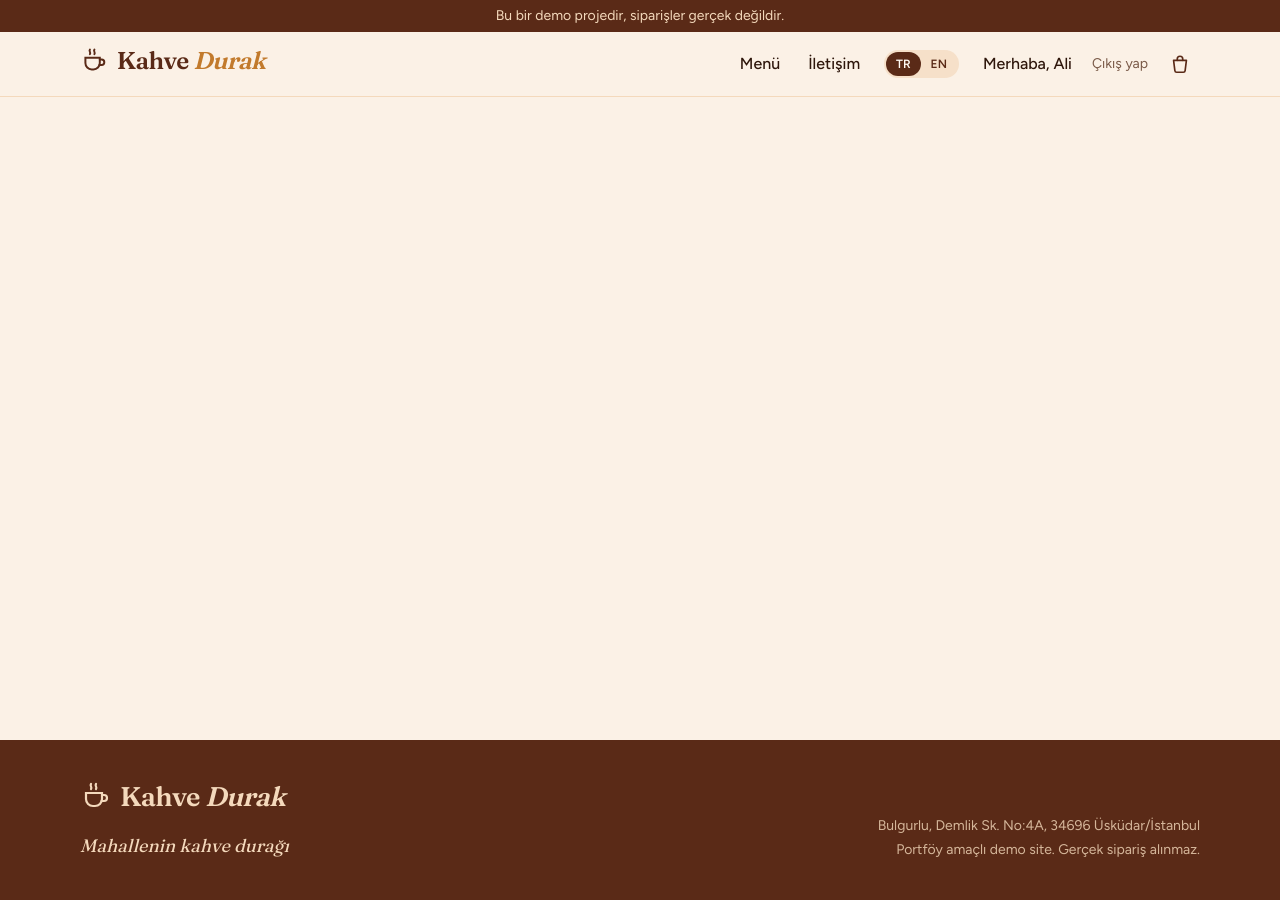
it: Header account area › shows the user name and logs out
The image size is (1280, 900).
Expected: the link "Merhaba, Ali" is shown, [983,54,1072,73]
What coordinates should you click on to do the following:
click the button "Çıkış yap"
I would click on:
 (1120, 64)
Its box is [1092,54,1148,74].
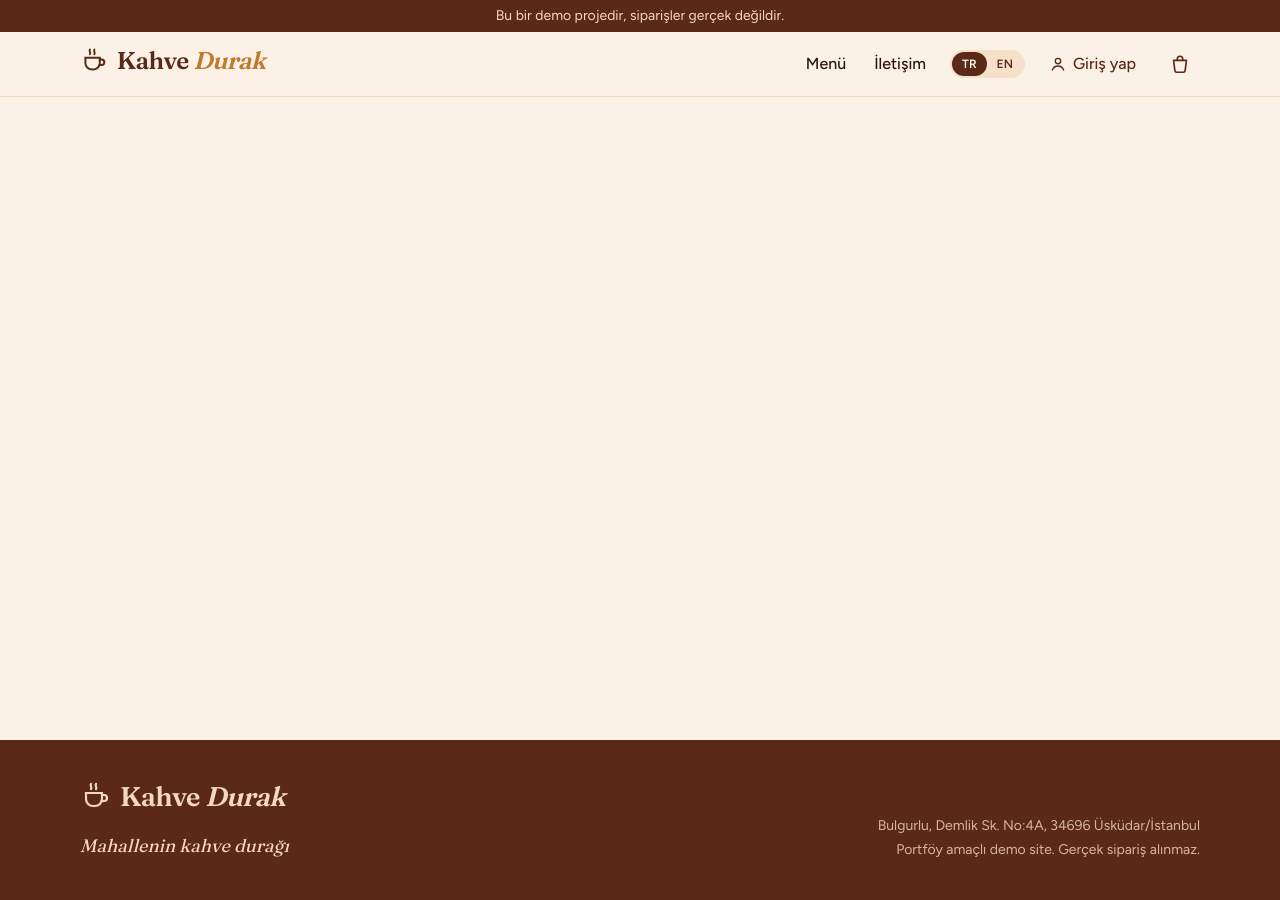
Now the link "Giriş yap" is shown, box [1049,54,1136,73]
